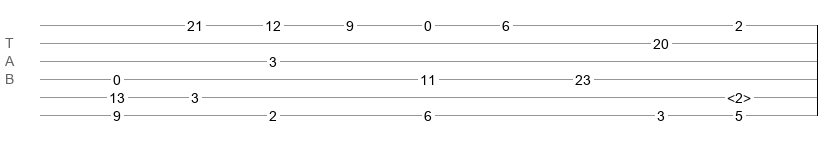0: (113, 72, 121, 82), (424, 18, 432, 28)
11: (420, 72, 436, 82)
12: (265, 18, 281, 28)
13: (109, 90, 125, 100)
2: (269, 108, 277, 118), (735, 18, 743, 28)
20: (653, 36, 669, 46)
21: (187, 18, 203, 28)
23: (575, 72, 591, 82)
3: (191, 90, 199, 100), (269, 54, 277, 64), (657, 108, 665, 118)
5: (735, 108, 743, 118)
6: (424, 108, 432, 118), (502, 18, 510, 28)
9: (113, 108, 121, 118), (346, 18, 354, 28)
harmonic: (727, 90, 751, 100)
